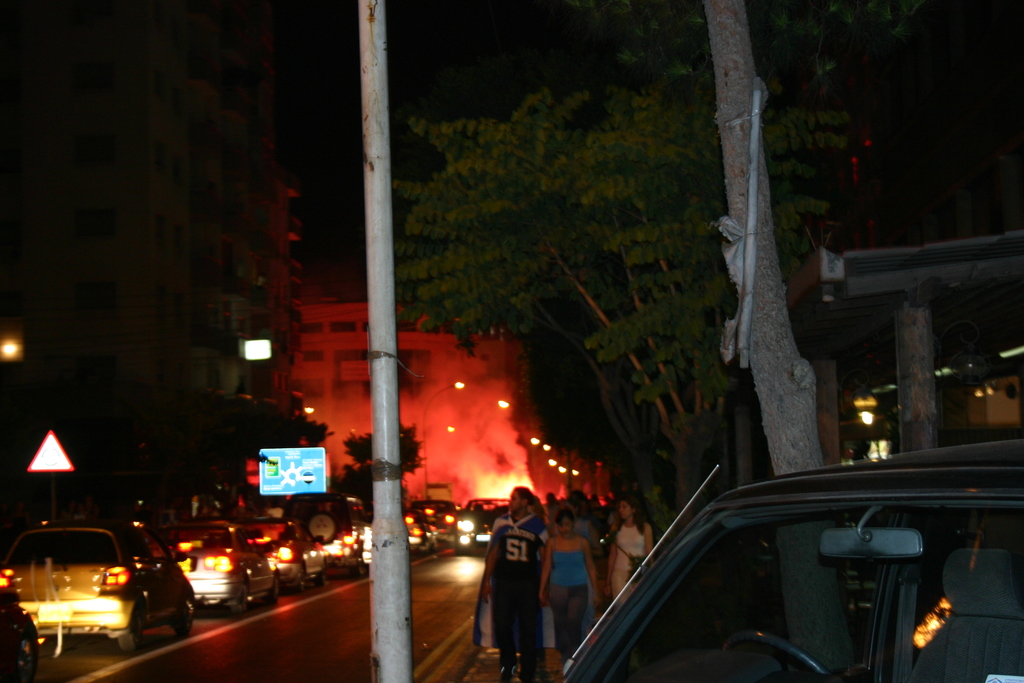Car: (556, 430, 1023, 682), (0, 495, 515, 677)
